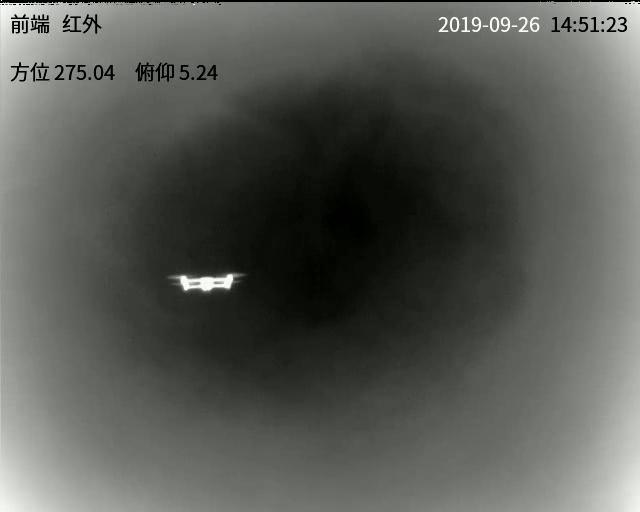DRONE: (172, 272, 240, 290)
